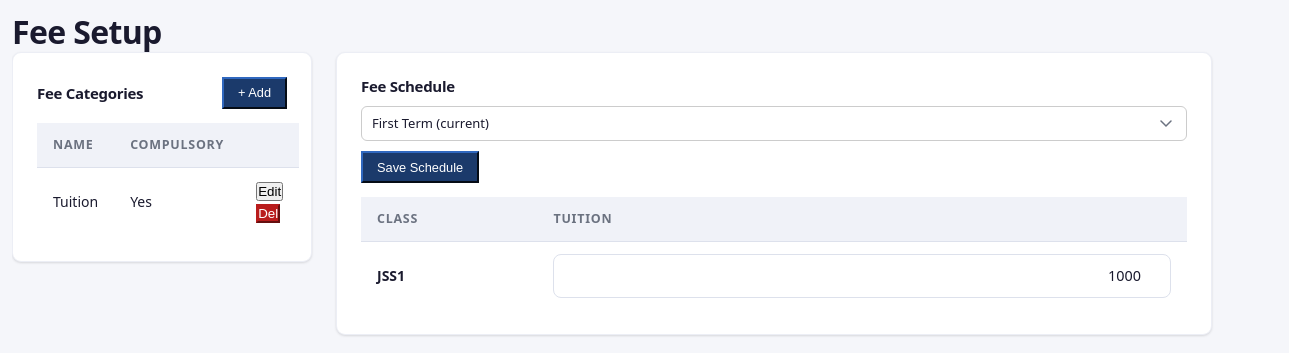
Test case: fee schedule editing submits term, class level, category and amount
Step 1. Replace the text in the number field with "1500" → (862, 276), box [554,254,1171,298]
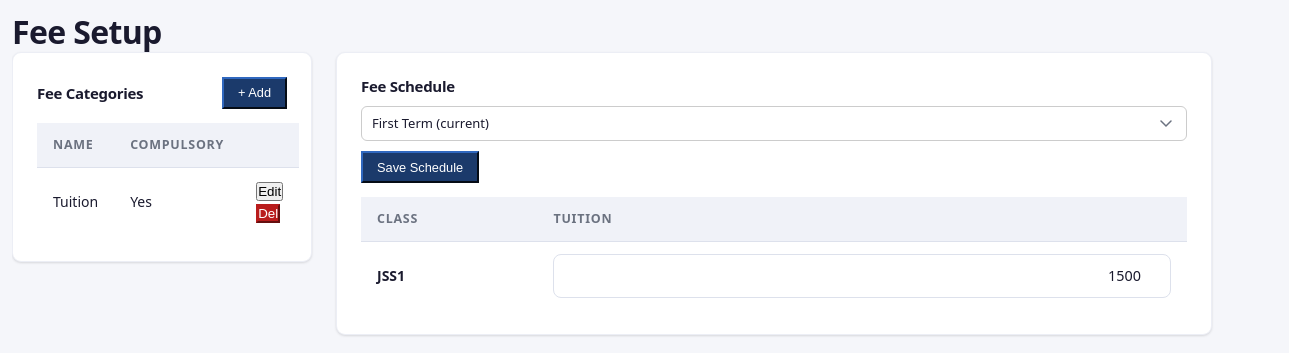
Step 2. Click the button "Save Schedule" → (420, 167), box [361,151,479,183]
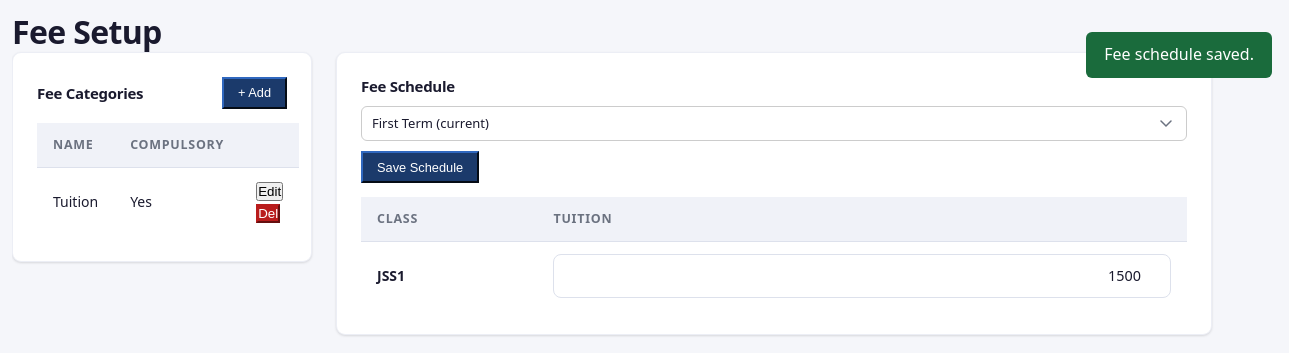
Expected: the text "Fee schedule saved." is shown, [1086,32,1272,78]
